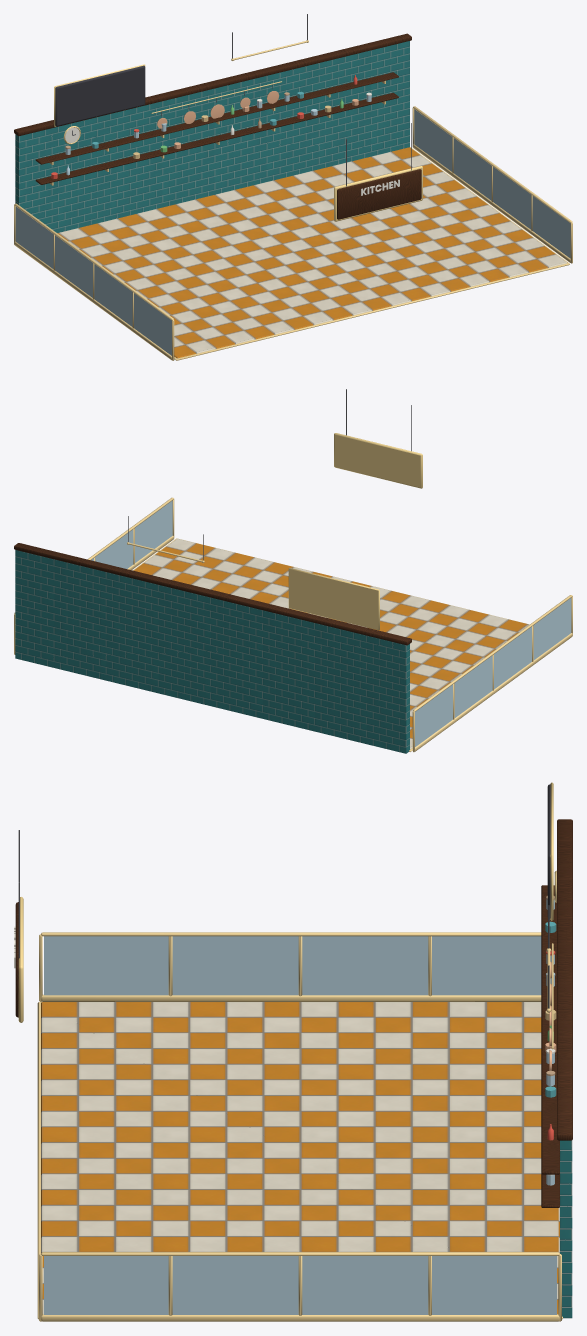
File: kr_layD_shell.glb
3 renders of one model, top to bottom at view 1: azimuth 30°, elevation 25°; view 2: azimuth 150°, elevation 25°; view 3: azimuth 270°, elevation 25°, orthographic. The views are drawn at different scales.
Parts seen in each view (by area): view 1: kr_layD_shell_checker4, kr_layD_shell_subway_teal, vc_m0_r2, kr_layD_shell_darkwood, vc_m8_r2, vc_m0_r4, vc_m8_r4; view 2: kr_layD_shell_subway_teal, kr_layD_shell_checker4, vc_m8_r2, vc_m0_r2, kr_layD_shell_darkwood; view 3: kr_layD_shell_checker4, vc_m0_r2, vc_m8_r2, kr_layD_shell_darkwood, kr_layD_shell_subway_teal, vc_m0_r4, vc_m8_r4.
Part boxes in pixels (x1,y1,x2,y2): kr_layD_shell_checker4: (57,147,567,358); kr_layD_shell_subway_teal: (15,41,409,232); vc_m0_r2: (15,75,570,355); kr_layD_shell_darkwood: (14,33,421,219); vc_m8_r2: (14,40,572,360); vc_m0_r4: (55,65,399,195); vc_m8_r4: (157,14,411,186); kr_layD_shell_subway_teal: (15,550,409,753); kr_layD_shell_checker4: (134,538,529,749); vc_m8_r2: (14,433,572,752); vc_m0_r2: (91,500,571,746); kr_layD_shell_darkwood: (14,543,411,645); kr_layD_shell_checker4: (41,1002,559,1314); vc_m0_r2: (44,899,556,1314); vc_m8_r2: (18,782,562,1321); kr_layD_shell_darkwood: (15,819,572,1207); kr_layD_shell_subway_teal: (560,1140,572,1318); vc_m0_r4: (14,784,556,1175); vc_m8_r4: (18,830,556,1070).
Bounding box in the file's own units: 12.32 × 5.46 × 9.05.
8 materials, 3 textured.
